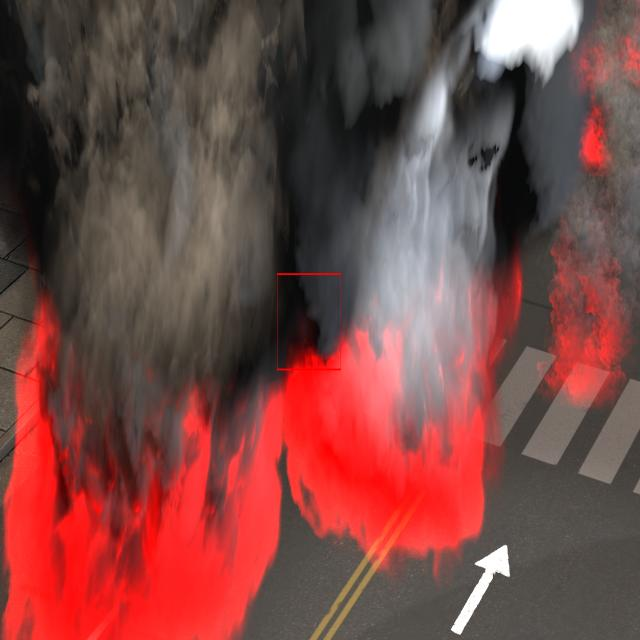Human: (276, 278, 340, 370)
